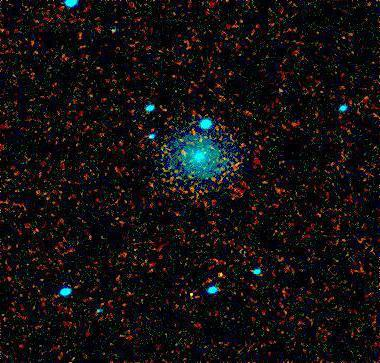star: (177, 278, 207, 308)
